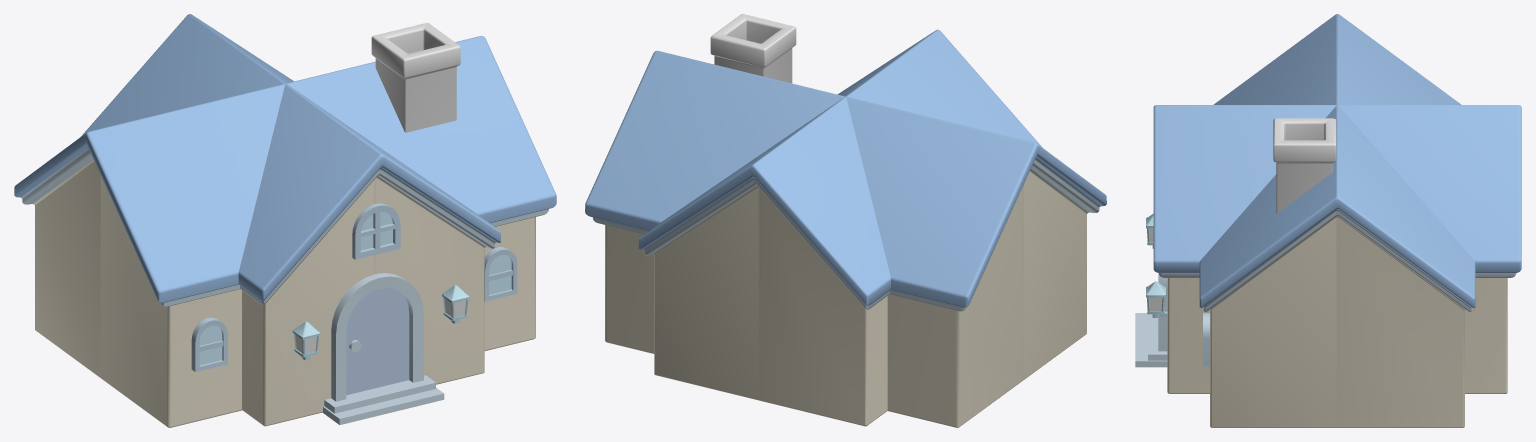
The model's file is House02.glb.
3 views of the same model, side by side, from view 1: azimuth 30°, elevation 25°; view 2: azimuth 150°, elevation 25°; view 3: azimuth 270°, elevation 25° (orthographic). The views are drawn at different scales.
Visible parts, largest first — view 1: House, Door, SmokePipe, Window, Lamp; view 2: House, SmokePipe; view 3: House, SmokePipe, Door, Lamp, Window.
Part boxes in pixels (left/top/right/bottom): House: left=14, top=14, right=556, bottom=427; Door: left=322, top=273, right=444, bottom=424; SmokePipe: left=371, top=23, right=460, bottom=132; Window: left=191, top=203, right=517, bottom=372; Lamp: left=292, top=285, right=469, bottom=360; House: left=585, top=29, right=1106, bottom=427; SmokePipe: left=710, top=14, right=796, bottom=83; House: left=1153, top=14, right=1521, bottom=427; SmokePipe: left=1273, top=118, right=1336, bottom=213; Door: left=1135, top=273, right=1167, bottom=367; Lamp: left=1146, top=213, right=1167, bottom=317; Window: left=1203, top=312, right=1209, bottom=366.
Size of the model in its own units: 1.34 by 0.8937 by 1.18.
